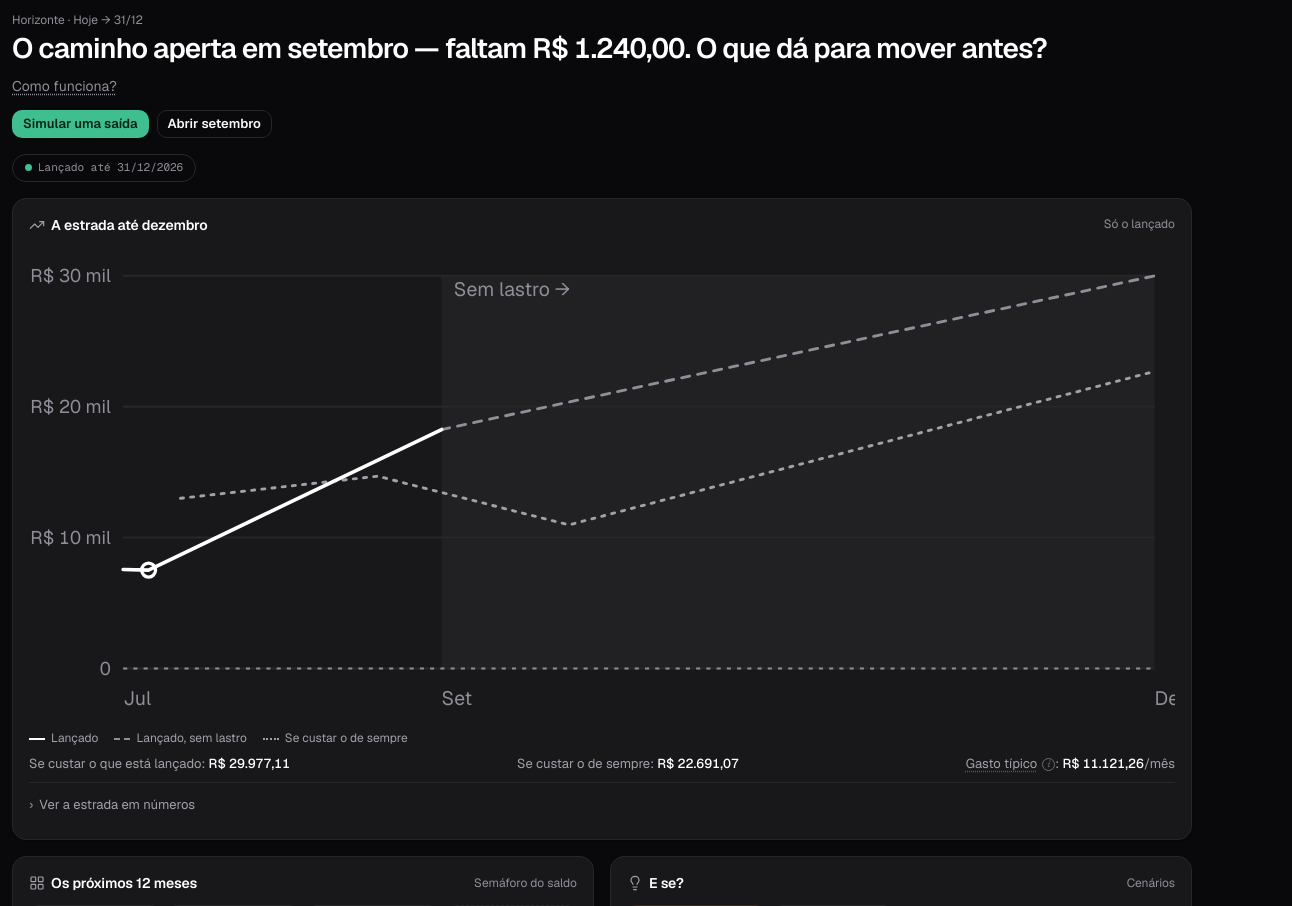
Test: HorizonteScreen (render) › aperto: a receita de travessia continua acessível atrás de 'Como funciona?'
Click the button with aria-label "Como funciona? — o caminho aperta" at (64, 87), box left=12, top=76, right=117, bottom=98
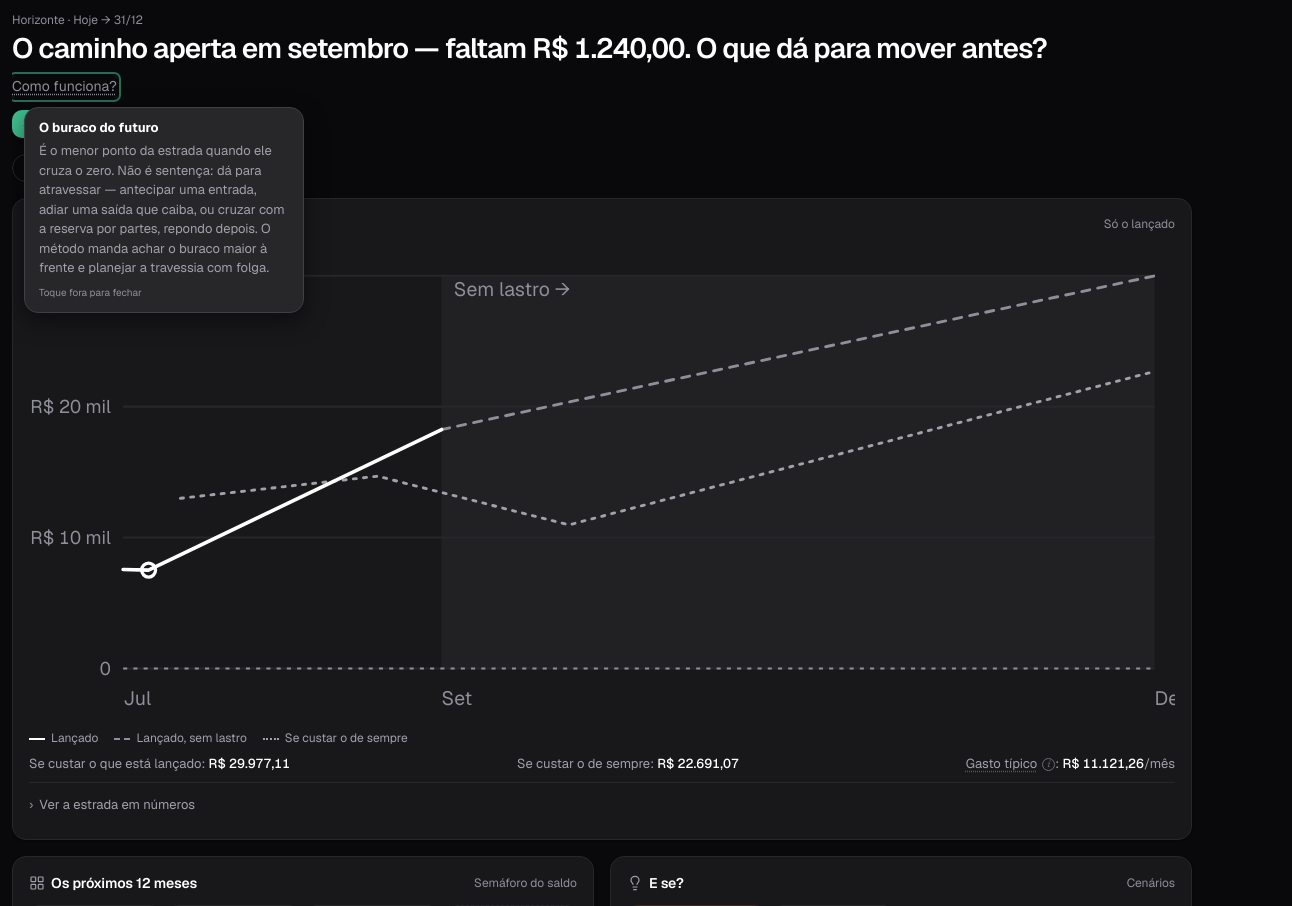
Result: the tooltip shows "antecipar uma entrada" at left=39, top=142, right=285, bottom=276
Result: the tooltip shows "cruzar com a reserva" at left=39, top=142, right=285, bottom=276
